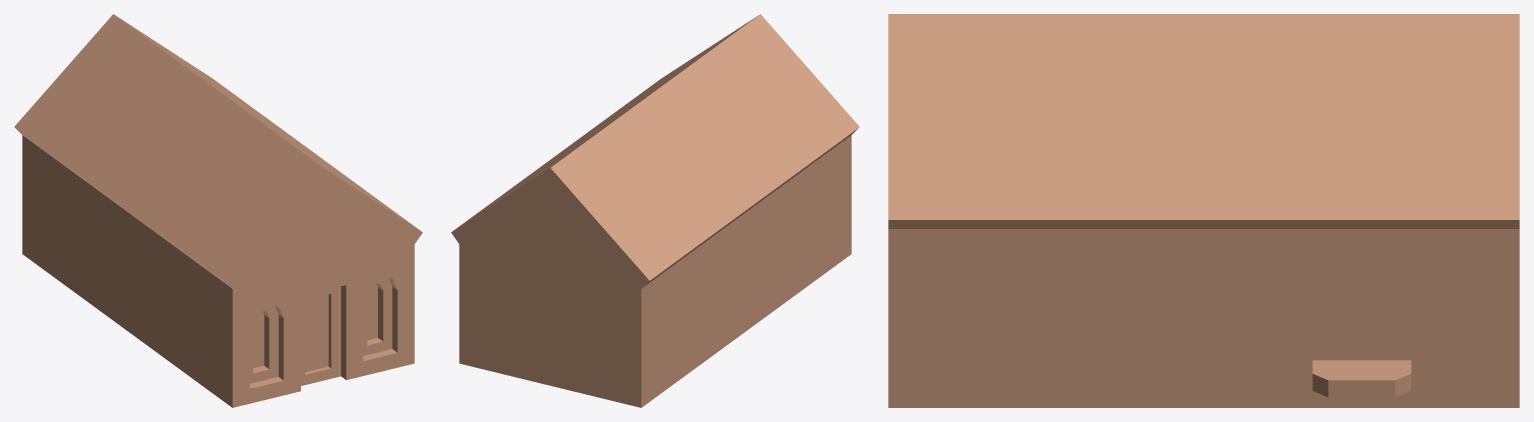
File: building-sample-house-a.obj
The picture shows the model from 3 angles, left to right: view 1: azimuth 30°, elevation 25°; view 2: azimuth 150°, elevation 25°; view 3: azimuth 270°, elevation 25°; orthographic projection. The views are drawn at different scales.
Bounding box in the file's own units: 1.1 × 1.14 × 2.
